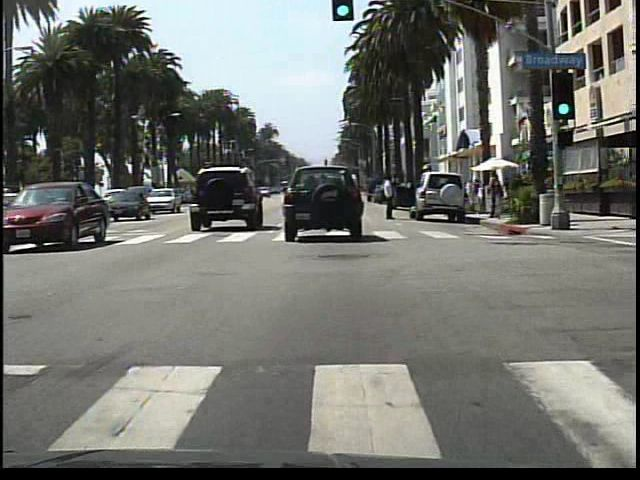person: (379, 169, 401, 224)
